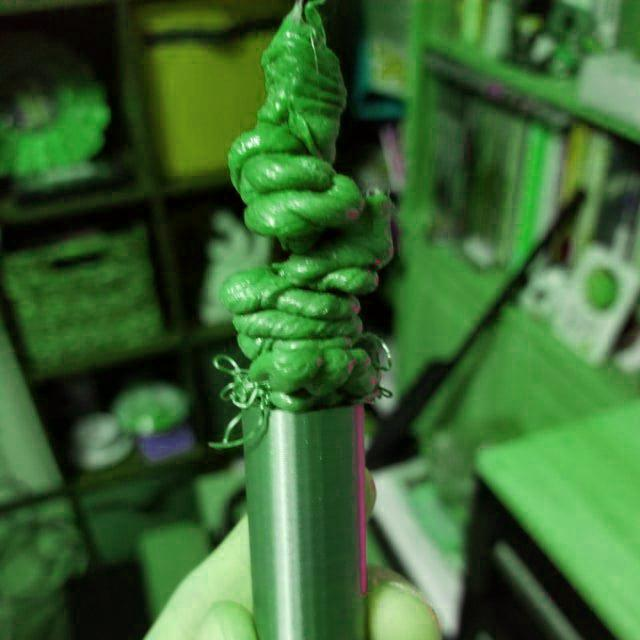spaghetti: (202, 1, 406, 460)
